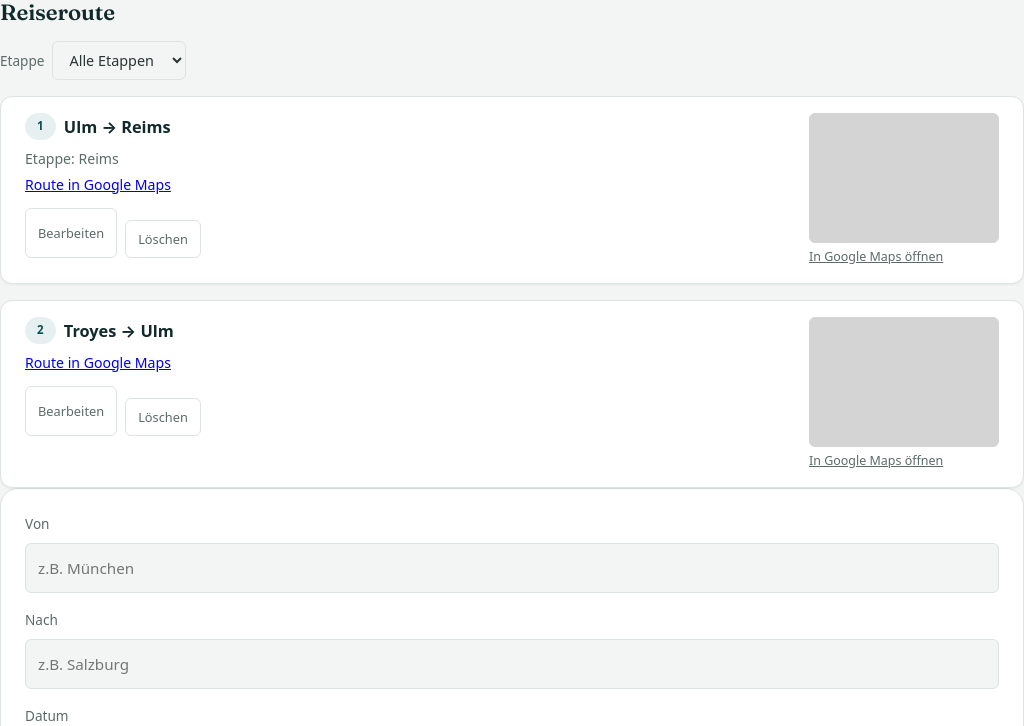
Test: Etappen-Filter im Bereich Reiseroute › Nutzerpfad: "Ohne Etappe" waehlen -> nur die nicht zugeordneten Eintraege bleiben sichtbar
expect the text "Ulm → Reims" is shown: met, box [64,114,171,140]
Select "Ohne Etappe" in the dropdown labelled "Etappe" at [120, 61], box [52,42,186,80]
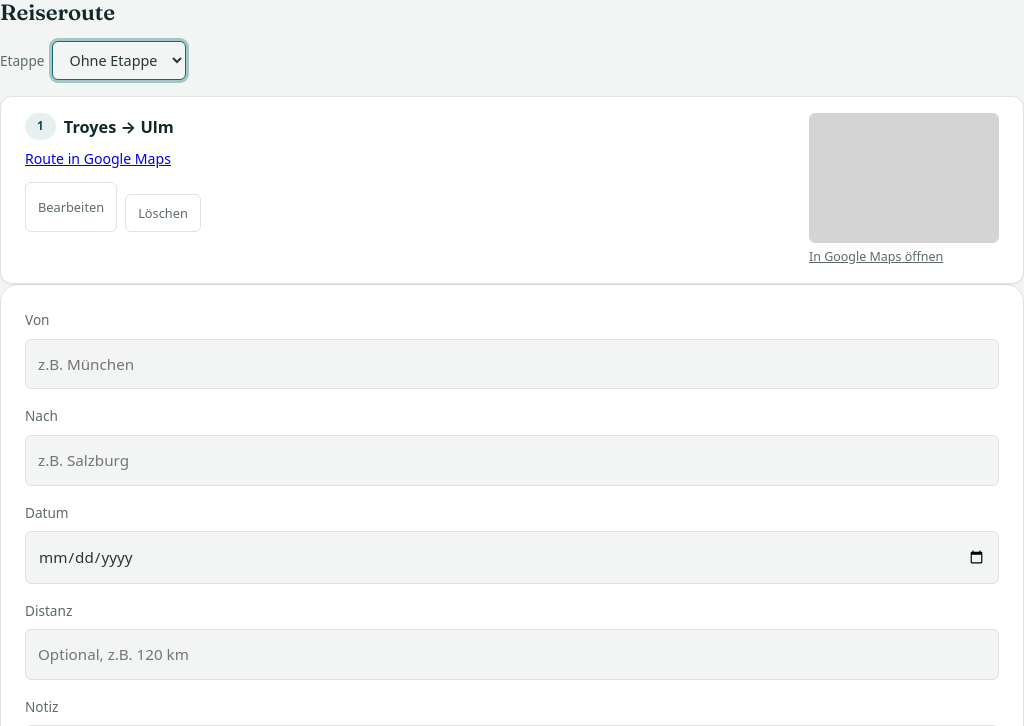
expect the text "Troyes → Ulm" is shown: met, box [64,114,174,140]
expect the text "Ulm → Reims" is gone: met
